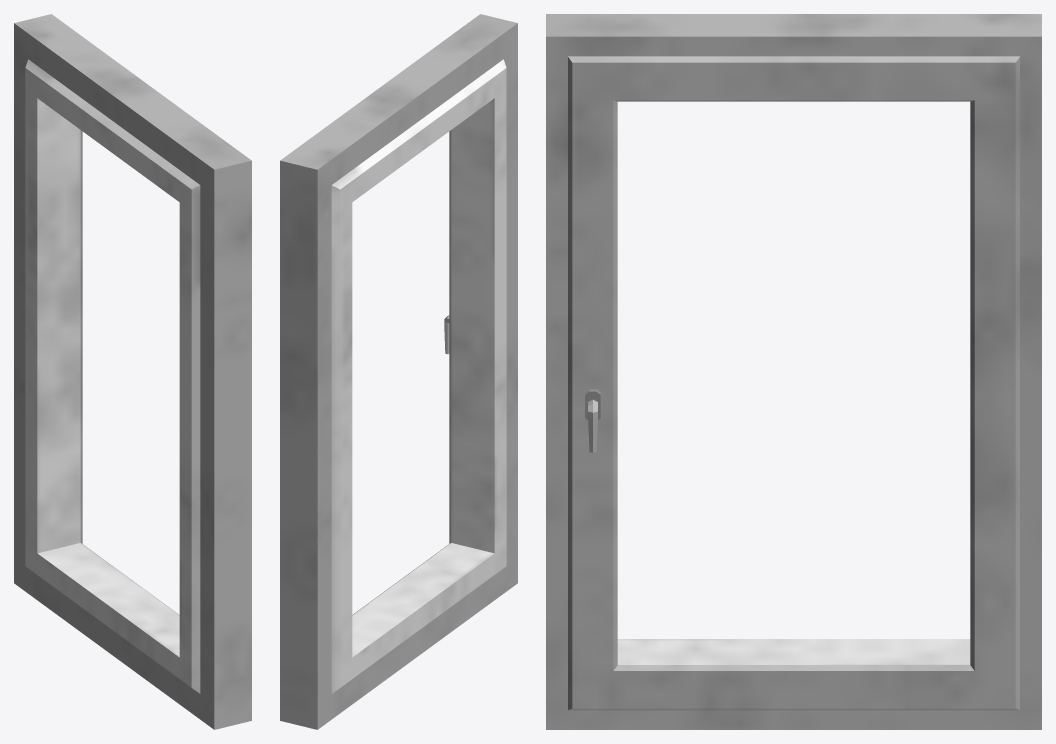
The model's file is Windows 1.274 x 0.8247.fbx.
The picture shows the model from 3 angles, left to right: view 1: azimuth 30°, elevation 25°; view 2: azimuth 150°, elevation 25°; view 3: azimuth 270°, elevation 25°; orthographic projection. The views are drawn at different scales.
Parts seen in each view (by area): view 1: Window 1.27 x 0.82, move; view 2: Window 1.27 x 0.82, move; view 3: move, Window 1.27 x 0.82.
Boxes of the visible parts, left/top/right/bottom form: Window 1.27 x 0.82: left=14, top=14, right=251, bottom=729; move: left=25, top=59, right=200, bottom=693; Window 1.27 x 0.82: left=280, top=14, right=517, bottom=729; move: left=331, top=59, right=506, bottom=693; move: left=568, top=56, right=1019, bottom=710; Window 1.27 x 0.82: left=546, top=14, right=1041, bottom=729.
Size of the model in its own units: 14.37 by 127 by 82.59.
Materials: 1 (1 with a texture image).
